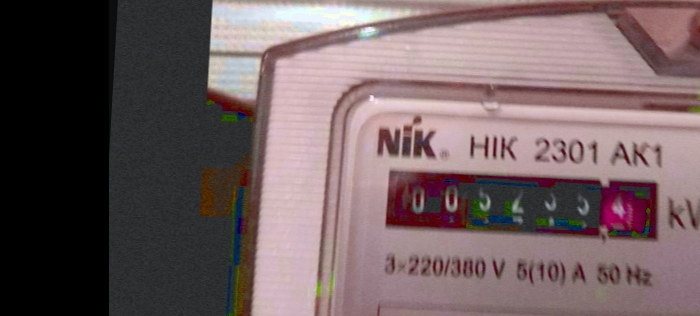0: (442, 178, 464, 212), (410, 180, 430, 212)
2: (508, 179, 531, 214)
3: (541, 179, 566, 213)
4: (609, 183, 633, 220)
5: (574, 180, 598, 217), (476, 178, 497, 212)
screen: (370, 149, 676, 253)
